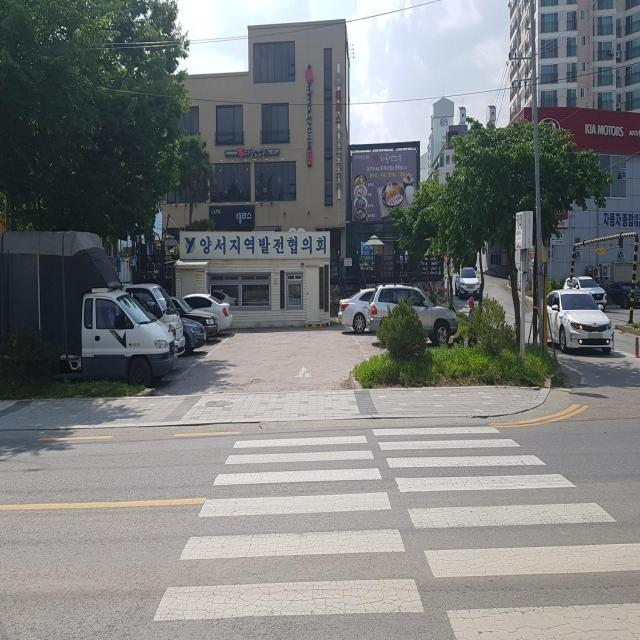횡단보도: (151, 423, 640, 640)
